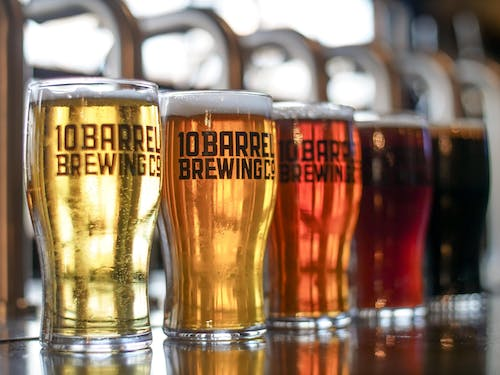alcohol: (23, 81, 164, 354), (161, 90, 279, 343), (266, 102, 362, 329), (352, 110, 433, 319), (425, 117, 490, 303)
